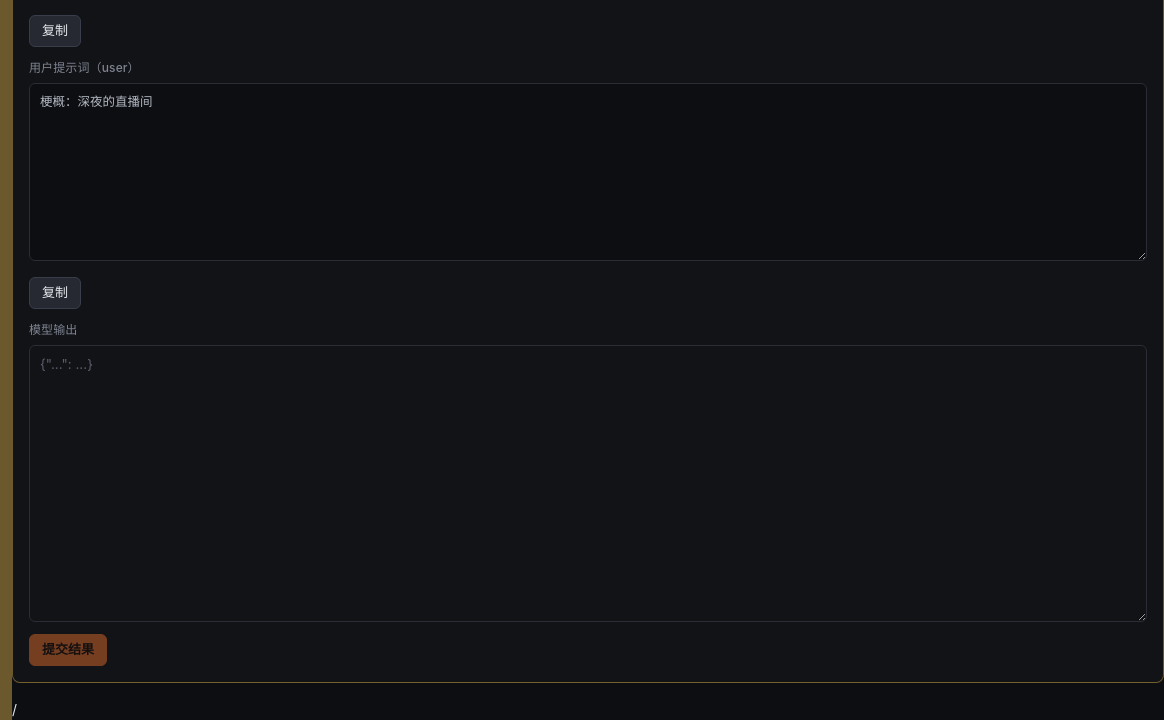
Scenario: ManualInputForm › 提交被后端拒绝时显示原因
The width and height of the screenshot is (1164, 720).
(page scrolled)
Click the text box labelled "模型输出" at (588, 483), box [29,345,1147,622]
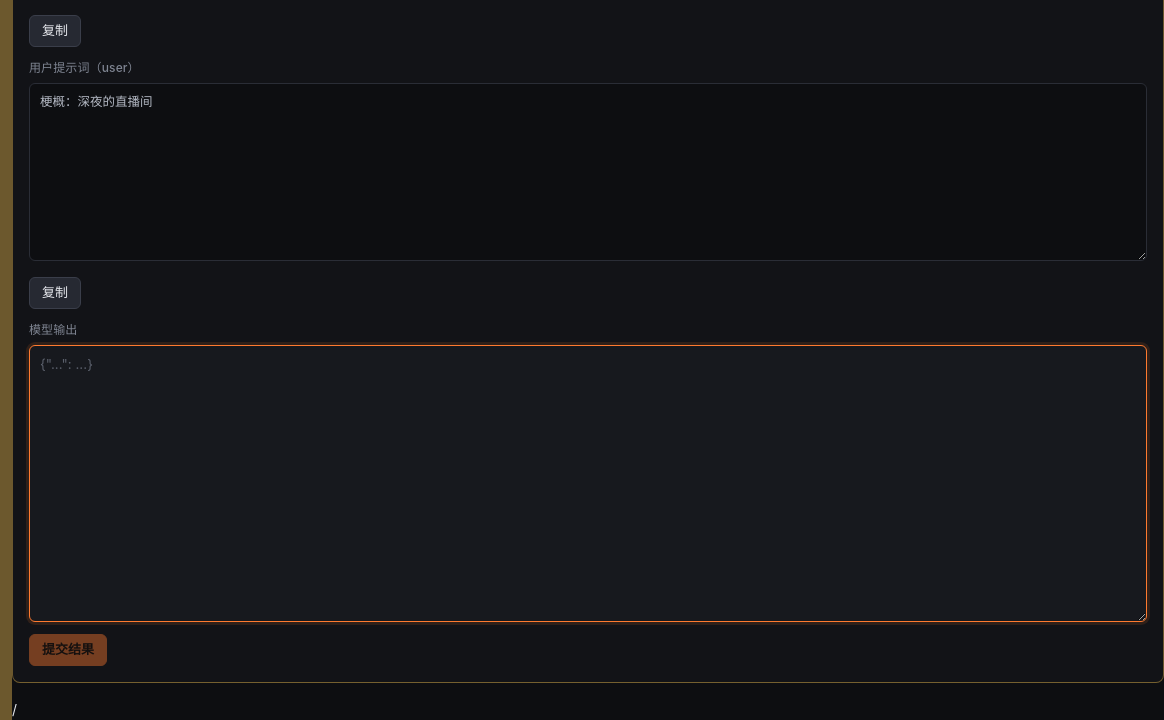
Type keys "{}"
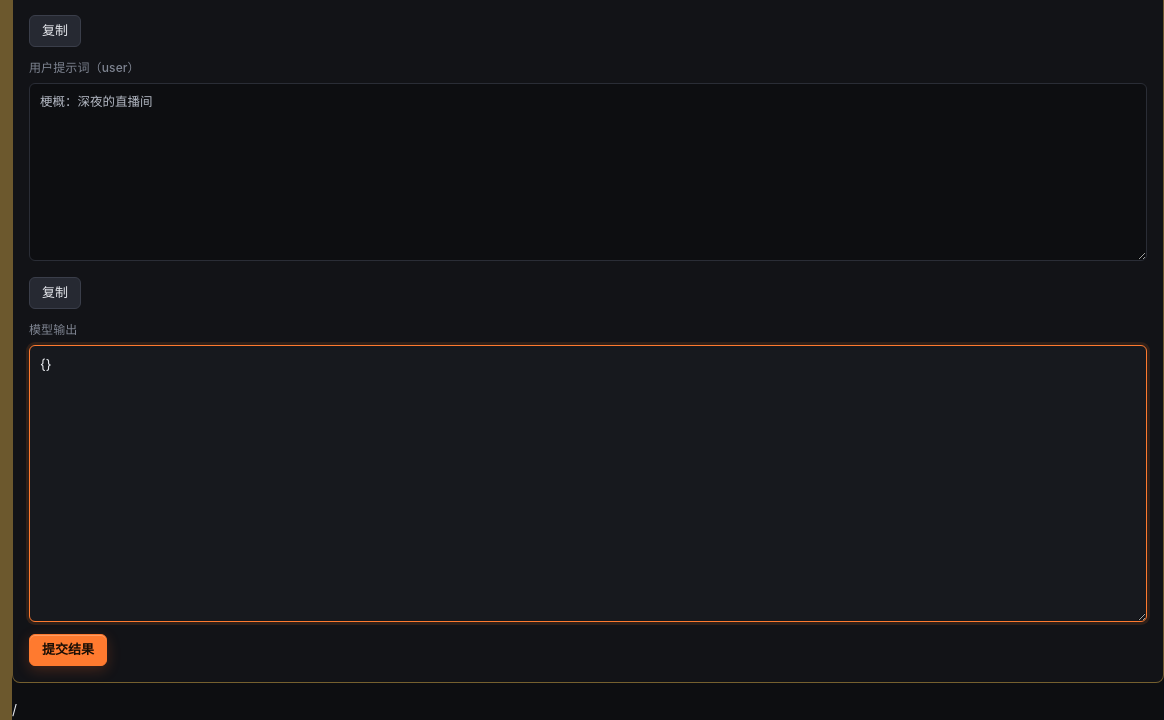
Click the button "提交结果" at (68, 650), box [29,634,107,666]
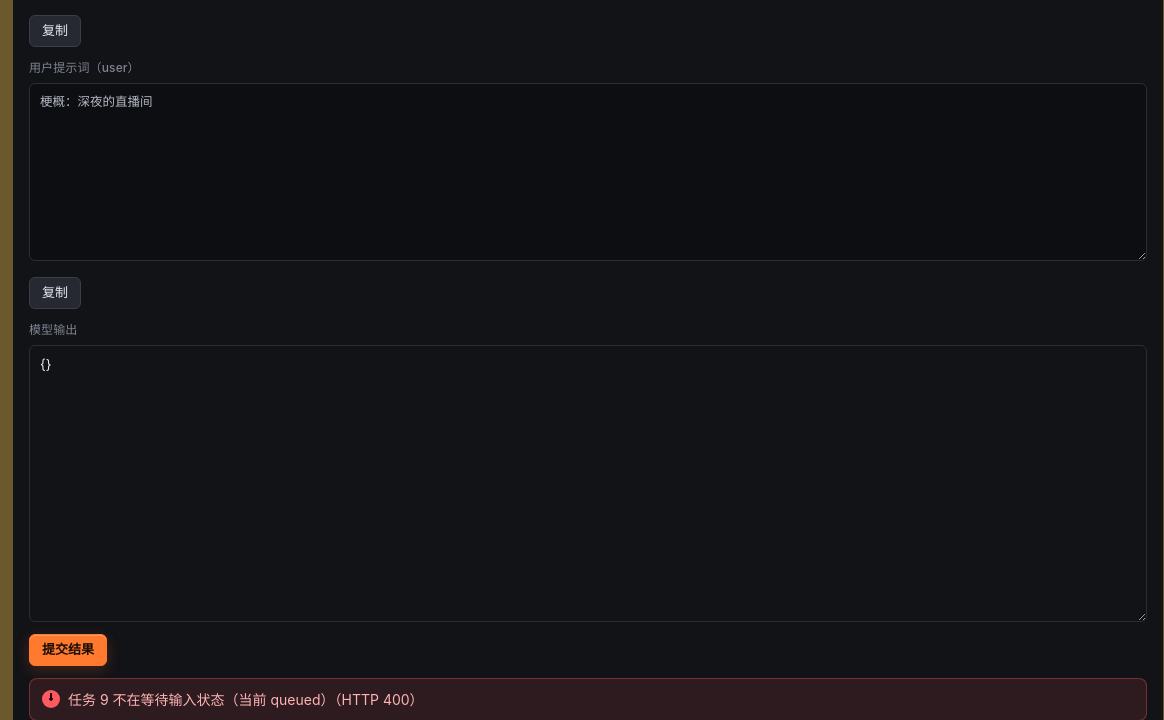
Expected: the text "任务 9 不在等待输入状态（当前 queued）（HTTP 400）" is shown, [29,678,1147,719]
